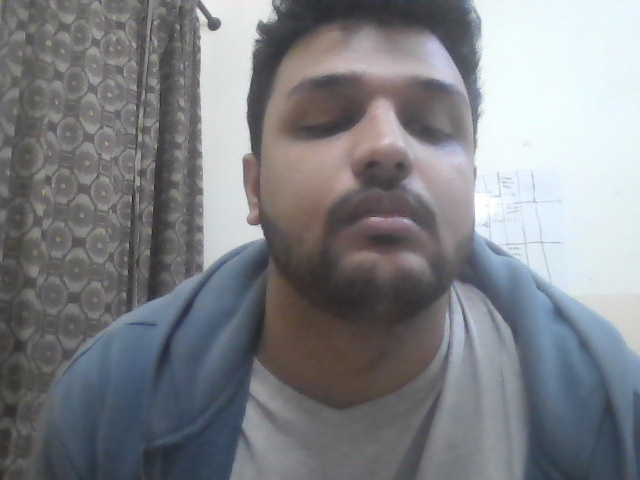awake: (200, 47, 629, 332)
